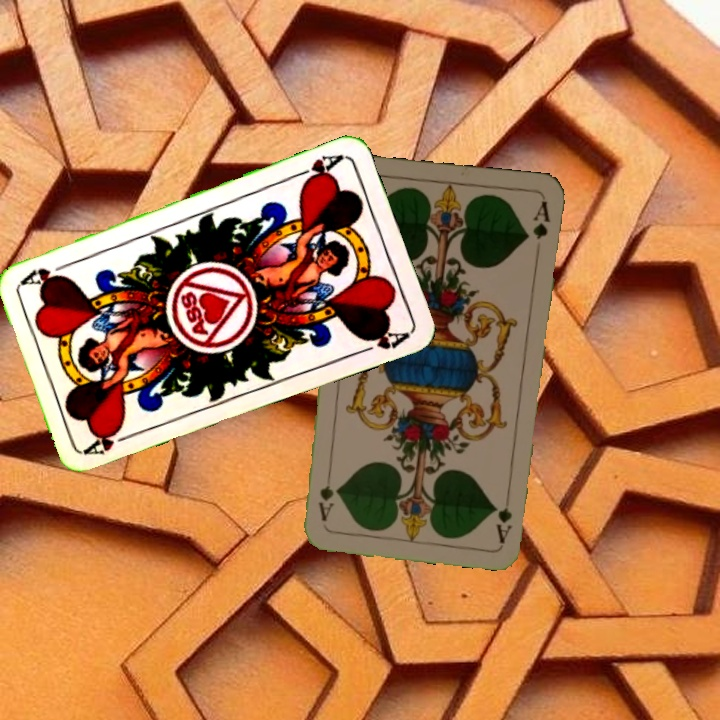GA: (495, 486, 515, 545)
HA: (289, 150, 346, 188), (81, 425, 139, 458)
